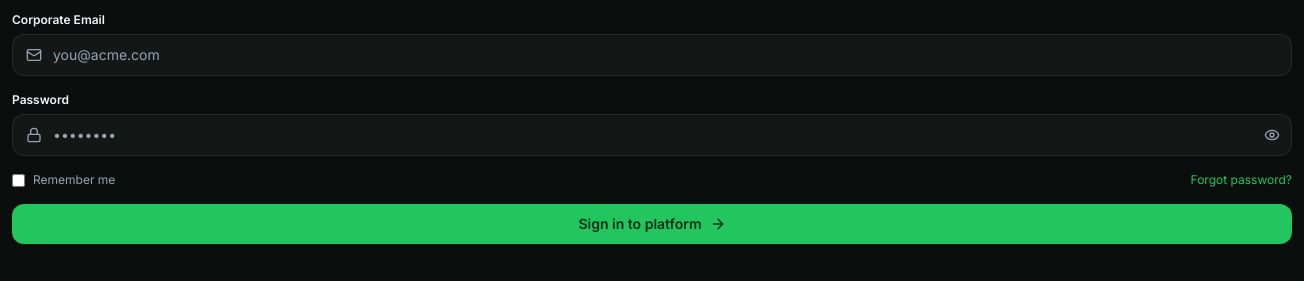
Scenario: LoginForm › shows validation error for a malformed email
In the field labelled "Corporate Email": [652, 55] box [12, 34, 1292, 76], type "not-an-email"
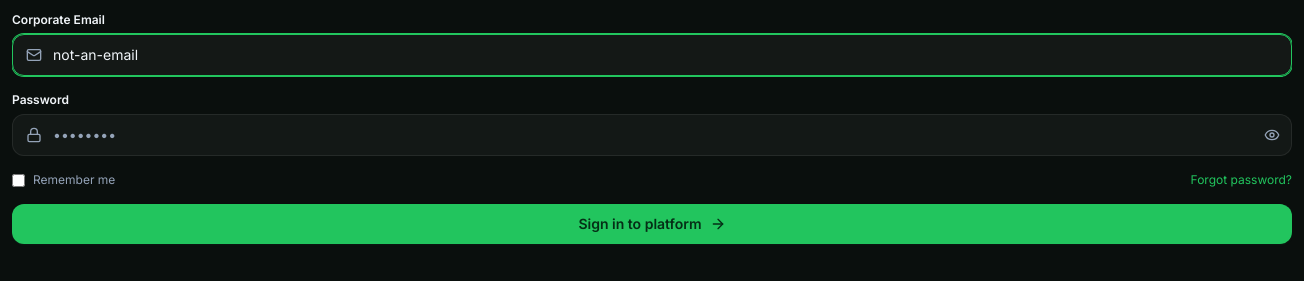
In the password field labelled "Password": [652, 135] box [12, 114, 1292, 156], type "somepassword"
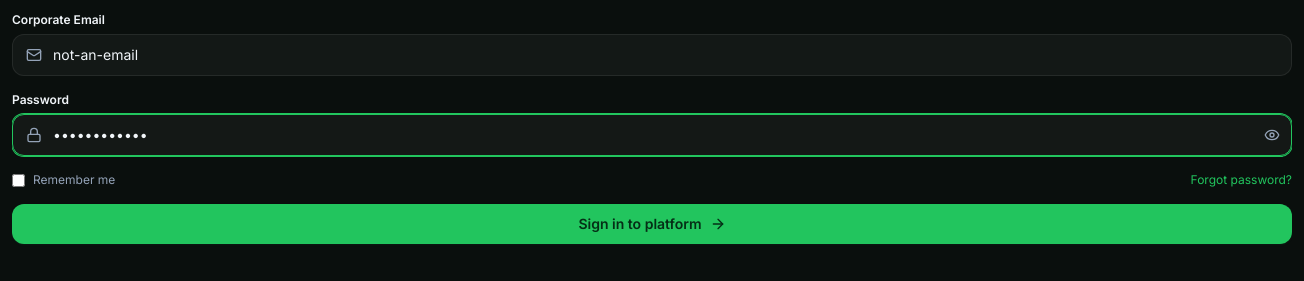
Click the button "Sign in to platform": [652, 224] box [12, 204, 1292, 244]
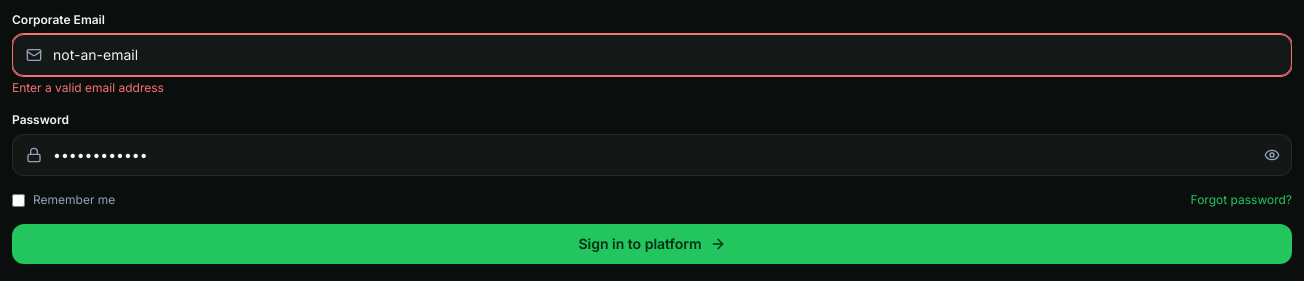
Check: the text "Enter a valid email address" is shown, box [12, 80, 164, 95]
